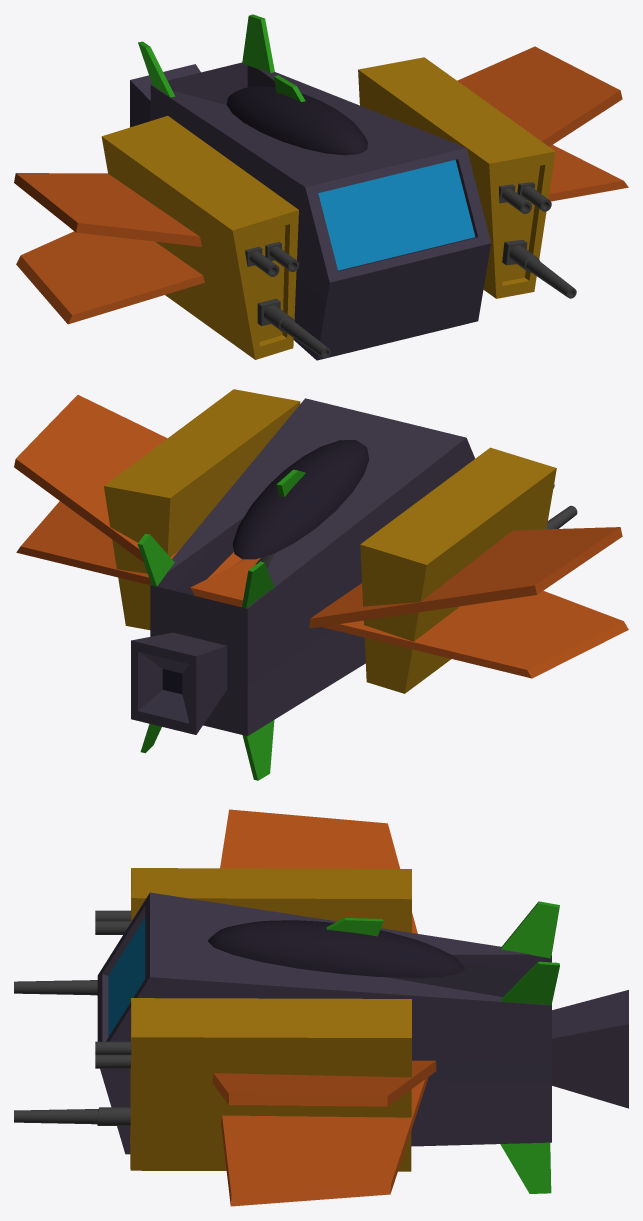
The model's file is player_spaceship.obj.
The picture shows the model from 3 angles, top to bottom: view 1: azimuth 30°, elevation 25°; view 2: azimuth 150°, elevation 25°; view 3: azimuth 270°, elevation 25°; orthographic projection. The views are drawn at different scales.
Parts seen in each view (by area): view 1: ship1; view 2: ship1; view 3: ship1.
Boxes of the visible parts, <box> form: ship1: <box>14,14,628,360</box>; ship1: <box>14,389,628,780</box>; ship1: <box>14,809,628,1206</box>.
Bounding box in the file's own units: 13.86 × 5.35 × 12.24.
